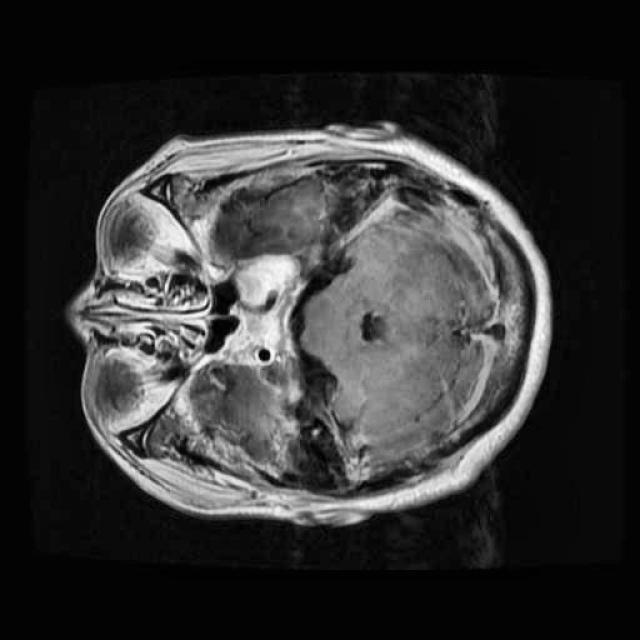Tumor: (218, 239, 321, 324)
